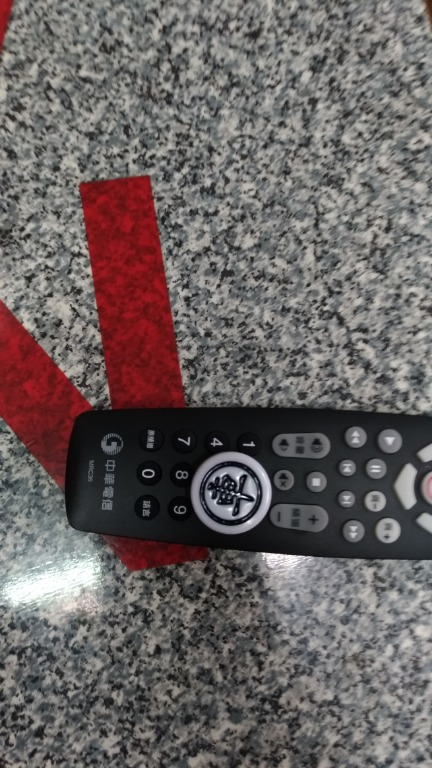b-king: (188, 443, 286, 543)
